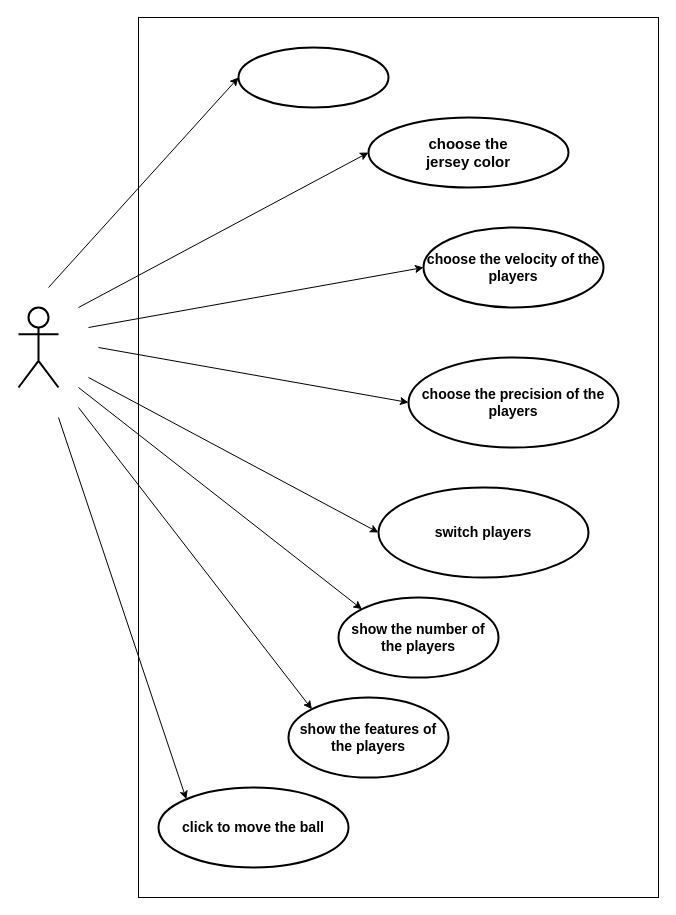
Some shapes in this 676 by 915 pixel diagram are drawn without their labels. The shapes that lost their labels are listed below. From the top down, each one's centre as x and y in pixels, then its label:
the point at 313,77: Start
the point at 38,347: User
